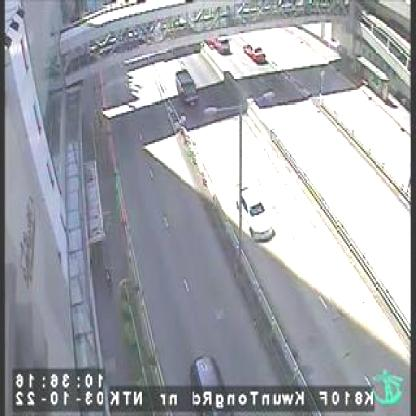Car: (238, 184, 278, 239), (177, 69, 199, 106), (245, 42, 269, 62)
